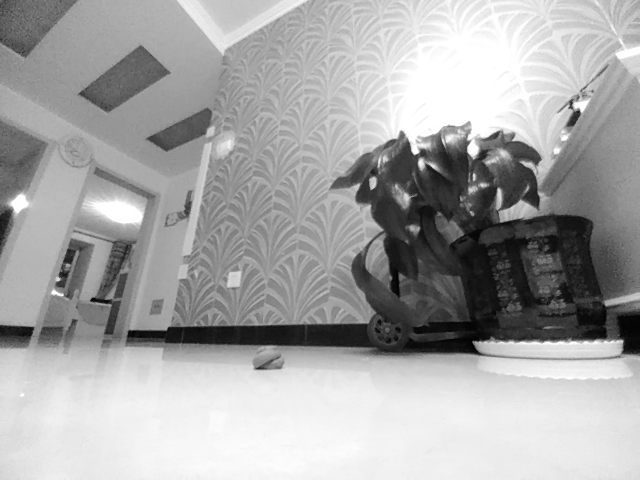pet feces: (252, 345, 287, 370)
